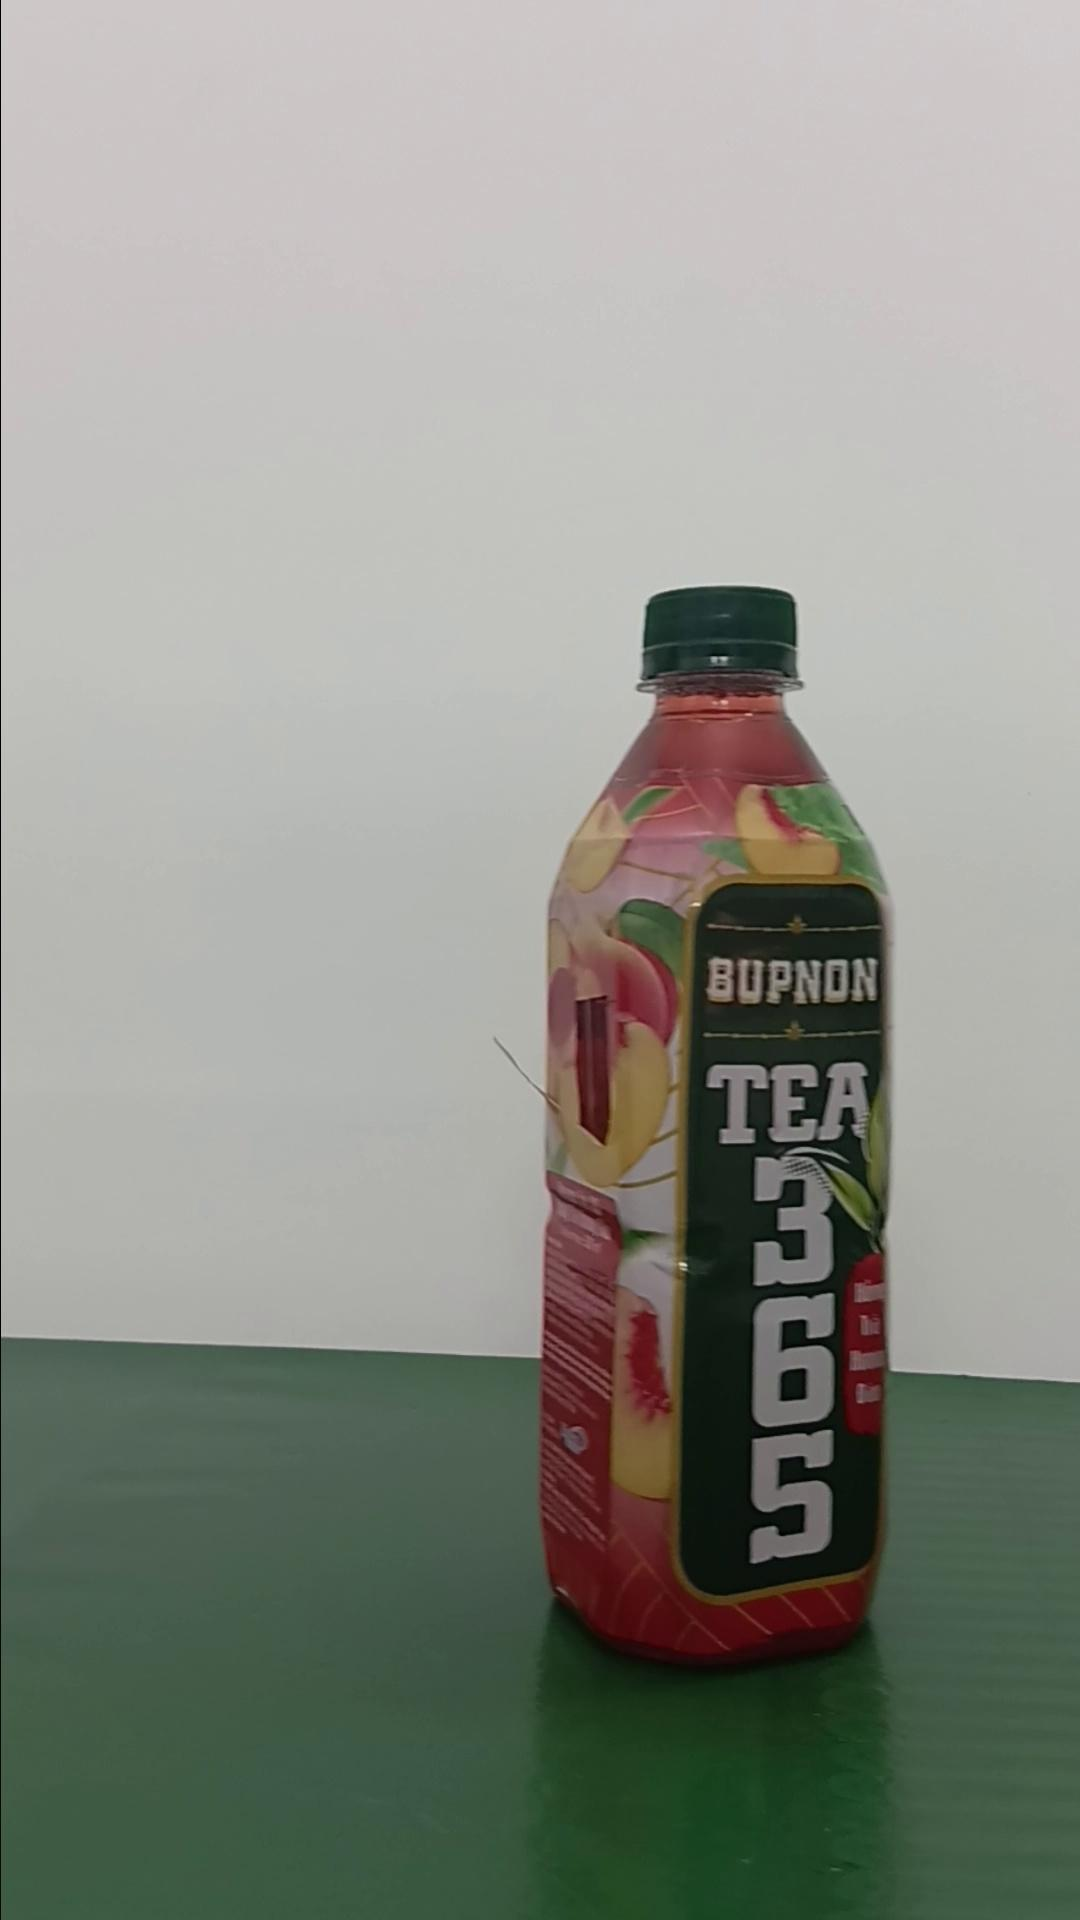loi rach va lap chai: (539, 579, 894, 1658)
